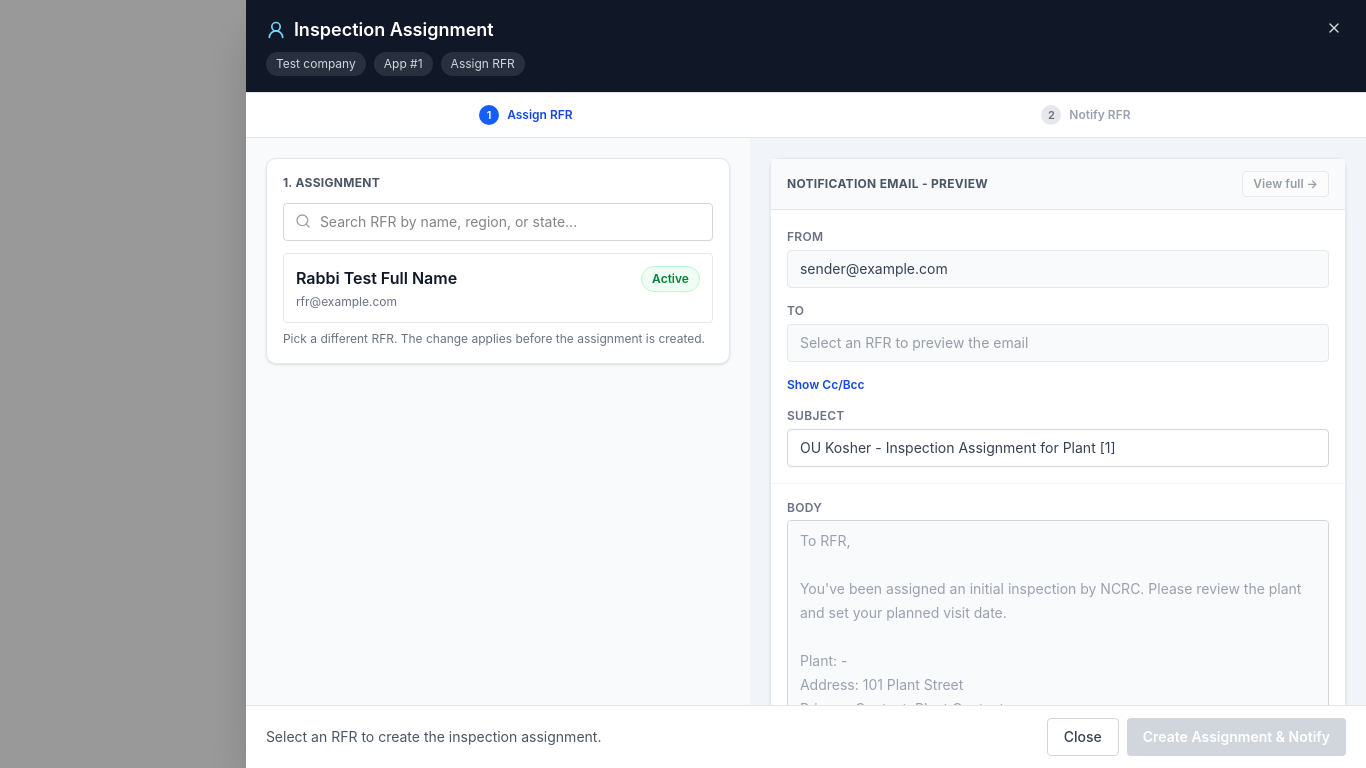
Test: creates and notifies without a Visit Date task or status-details save
Click the button "Rabbi Test Full Name rfr@example.com Active": (377,278) [283,253,713,323]
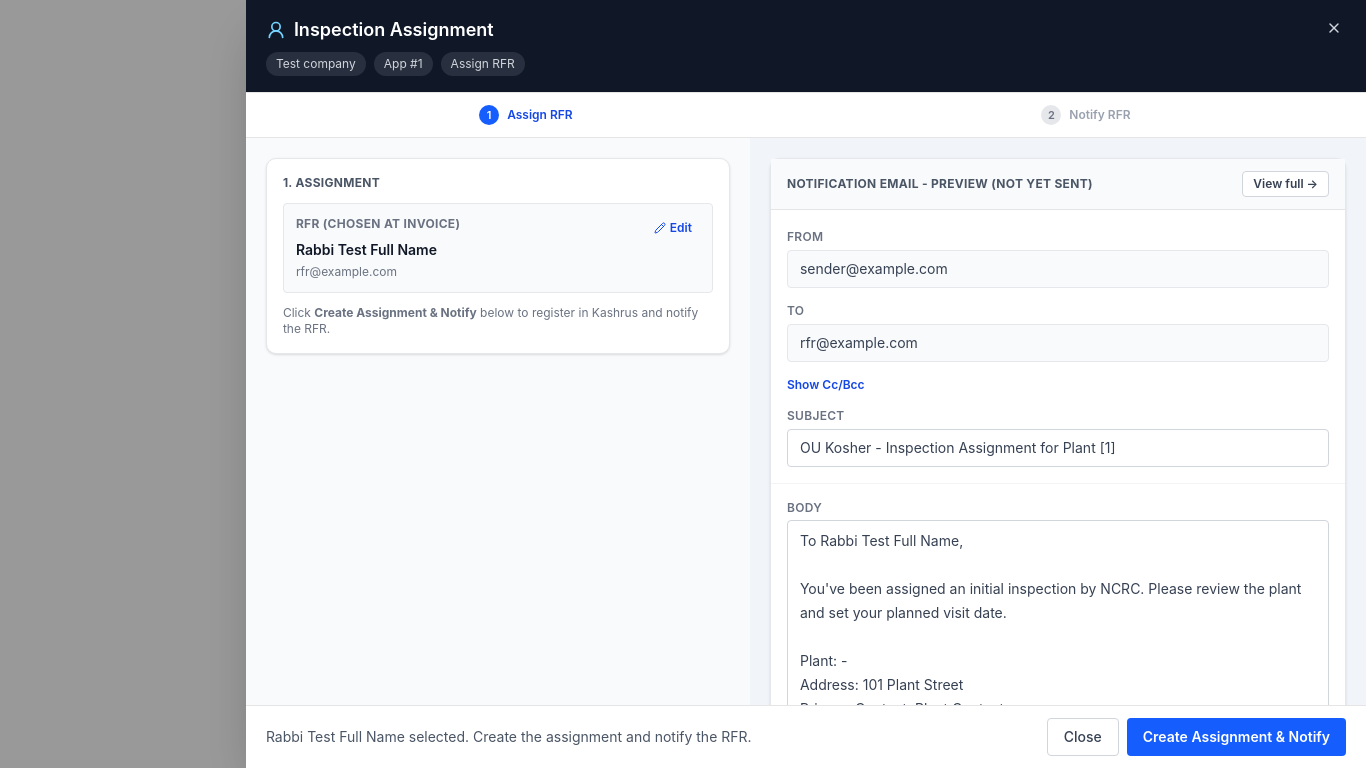
Click the button "Create Assignment & Notify": (1236,737) [1127,718,1346,756]
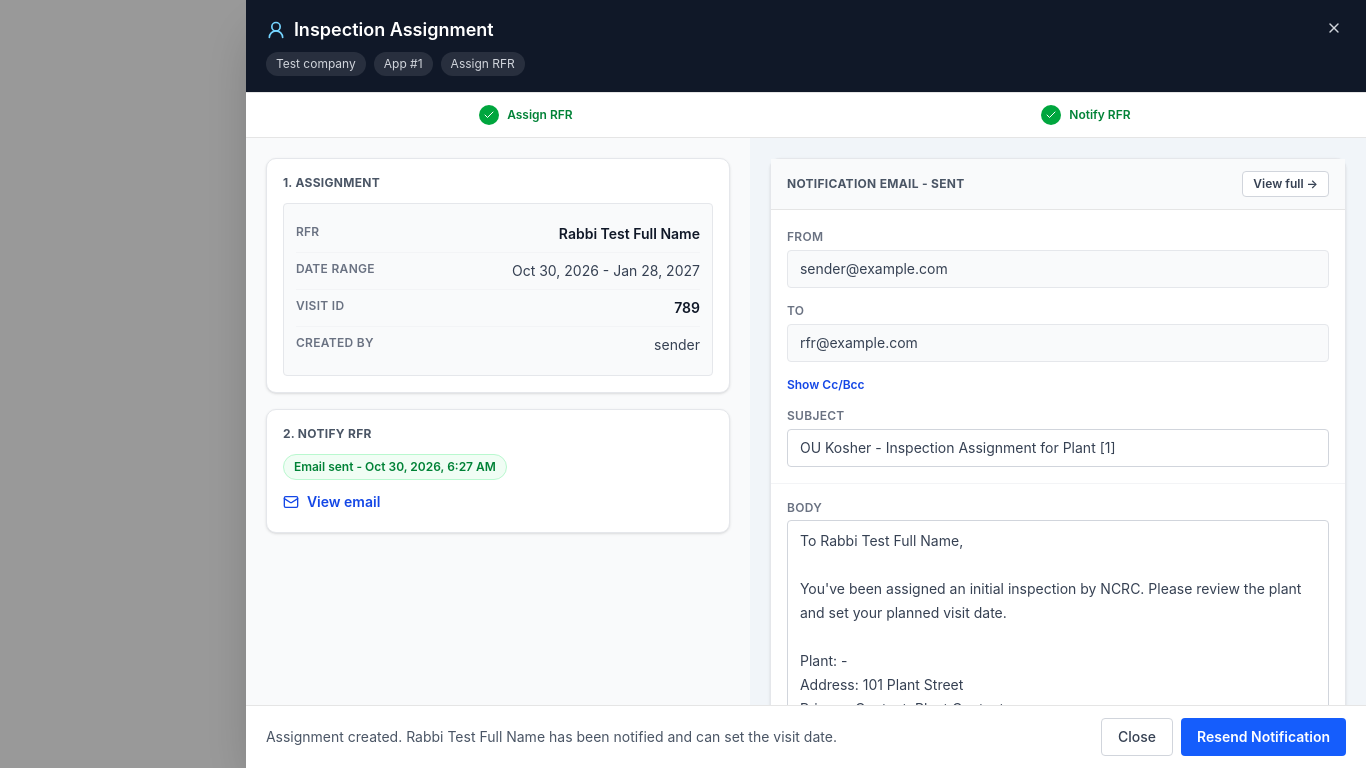
Expected: the button "Resend Notification" is shown, [1181,718,1346,756]
